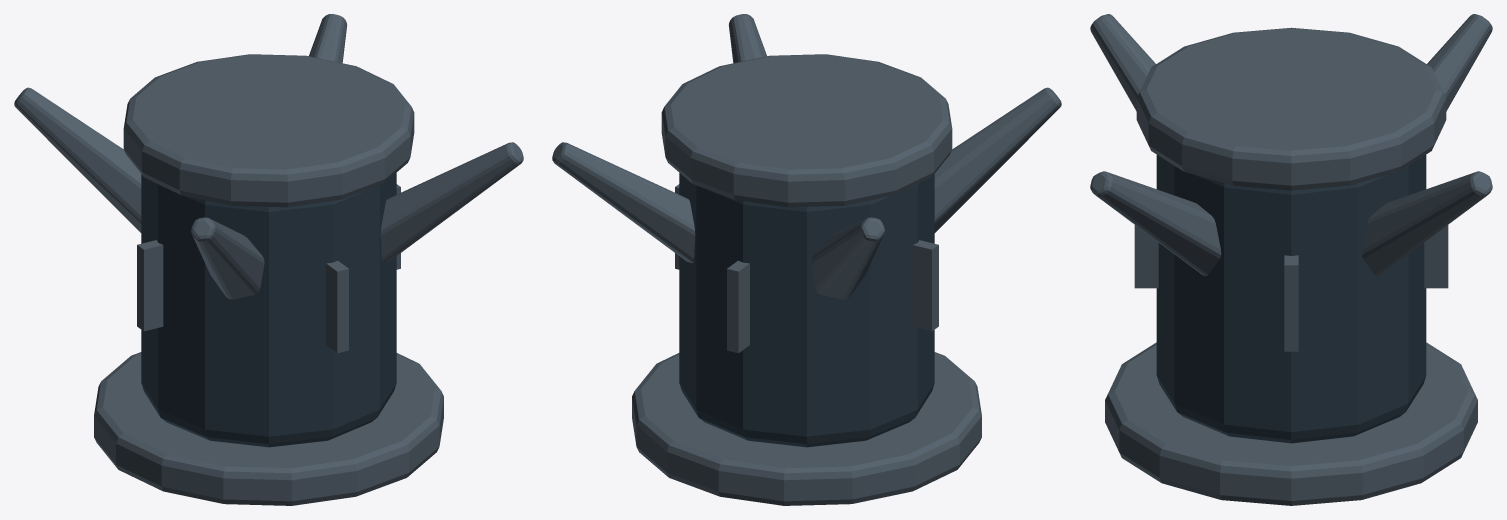
Rendered from SpikeBeacon.fbx.
3 renders of one model, left to right at view 1: azimuth 30°, elevation 25°; view 2: azimuth 150°, elevation 25°; view 3: azimuth 270°, elevation 25°, orthographic. The views are drawn at different scales.
Parts seen in each view (by area): view 1: SpikeBeacon; view 2: SpikeBeacon; view 3: SpikeBeacon.
Part boxes in pixels (x1,y1,x2,y2): SpikeBeacon: (14,14,523,505); SpikeBeacon: (552,14,1061,505); SpikeBeacon: (1090,14,1492,505).
Bounding box in the file's own units: 0.5068 × 0.475 × 0.5071.
